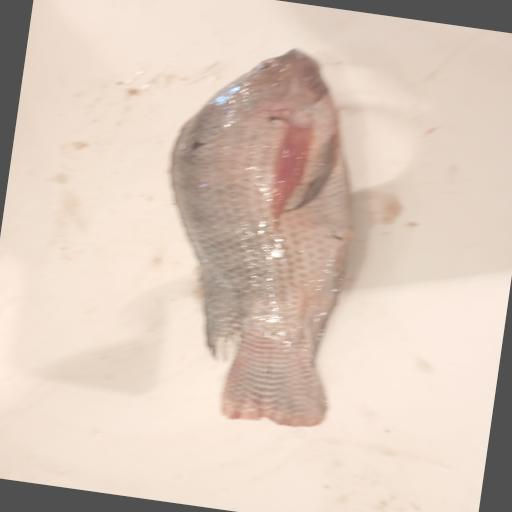Tilapia: (134, 33, 381, 434)
